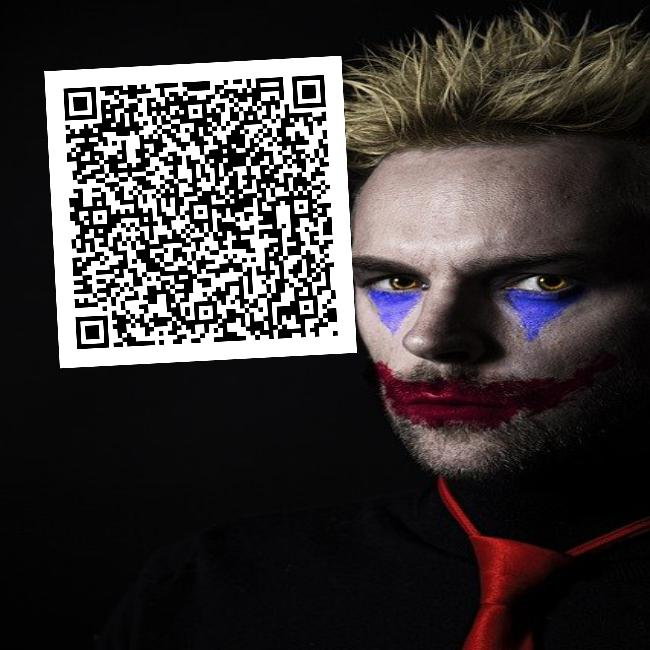qr_code: (44, 56, 356, 368)
